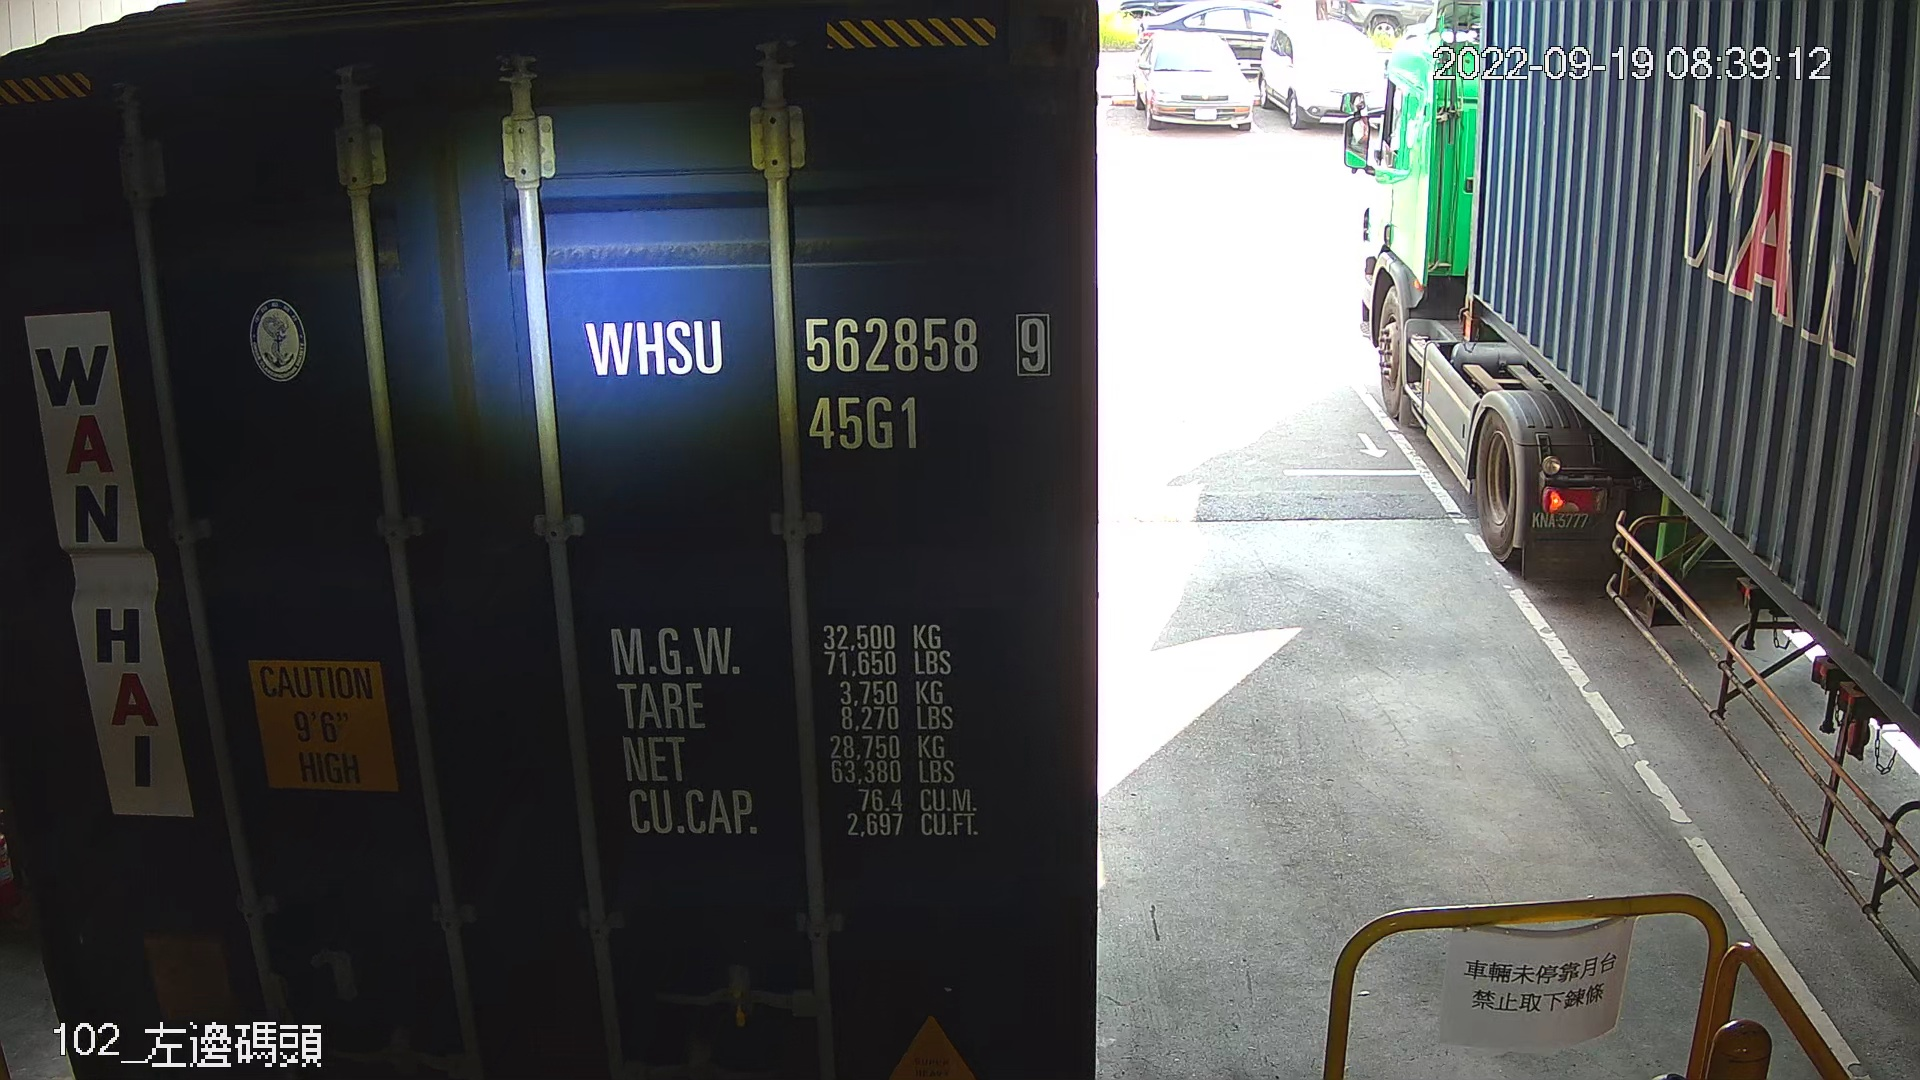container: (575, 301, 1063, 469)
